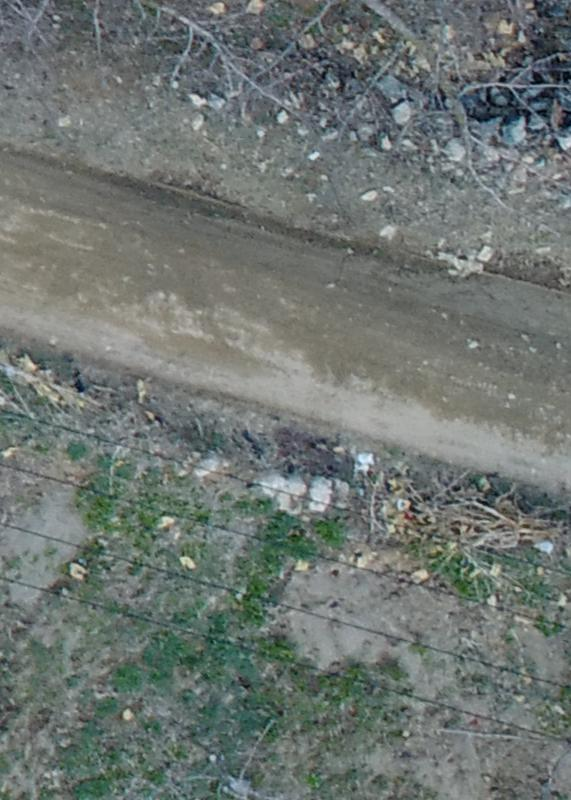apple: (216, 10, 542, 217), (166, 708, 392, 790)
